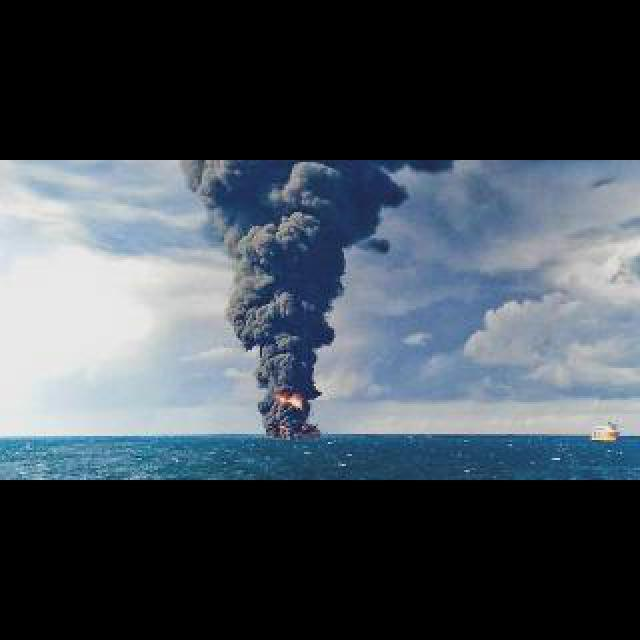fire: (166, 161, 454, 392)
smoke: (274, 390, 302, 406), (590, 430, 616, 438)
